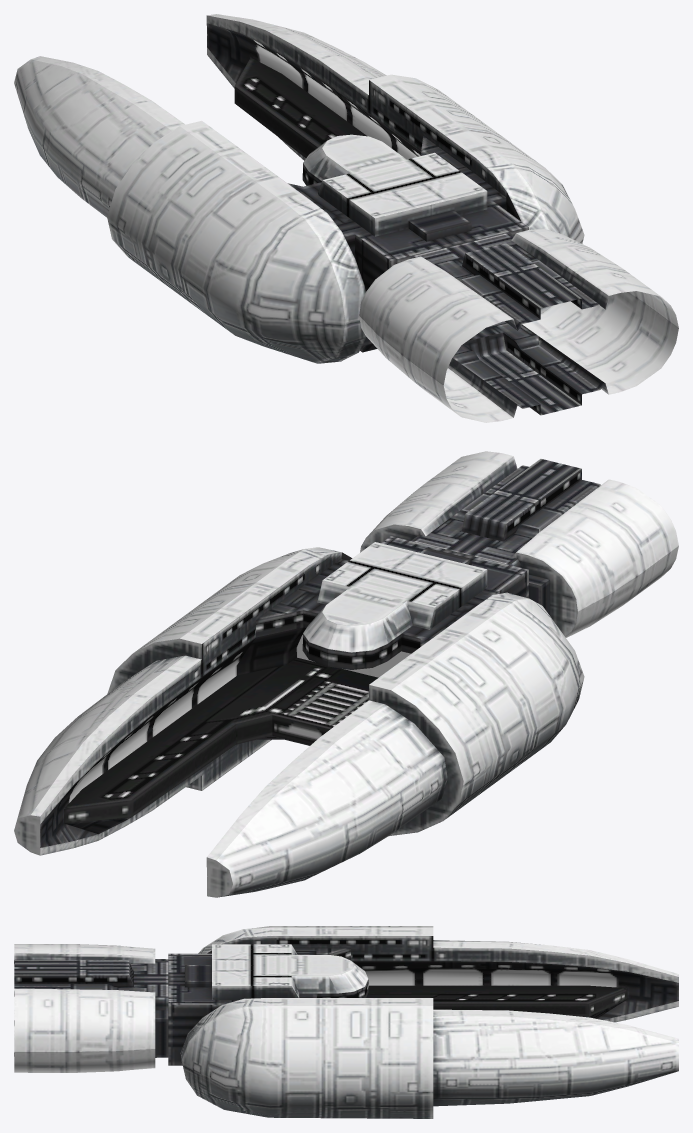
Rendered from tgef_01_orbital_station_hangarbay_section.obj.
3 views of the same model, one above another, from view 1: azimuth 30°, elevation 25°; view 2: azimuth 150°, elevation 25°; view 3: azimuth 270°, elevation 25° (orthographic). The views are drawn at different scales.
Parts seen in each view (by area): view 1: humanoid_01_orbital_station_hangarbay_section|g_body|g_bodyShap; view 2: humanoid_01_orbital_station_hangarbay_section|g_body|g_bodyShap; view 3: humanoid_01_orbital_station_hangarbay_section|g_body|g_bodyShap.
Boxes of the visible parts, bbox=[...] form: humanoid_01_orbital_station_hangarbay_section|g_body|g_bodyShap: bbox=[14, 14, 678, 422]; humanoid_01_orbital_station_hangarbay_section|g_body|g_bodyShap: bbox=[14, 451, 678, 897]; humanoid_01_orbital_station_hangarbay_section|g_body|g_bodyShap: bbox=[14, 926, 678, 1118].
Bounding box in the file's own units: 6.44e-05 × 2.58e-05 × 0.000137.
